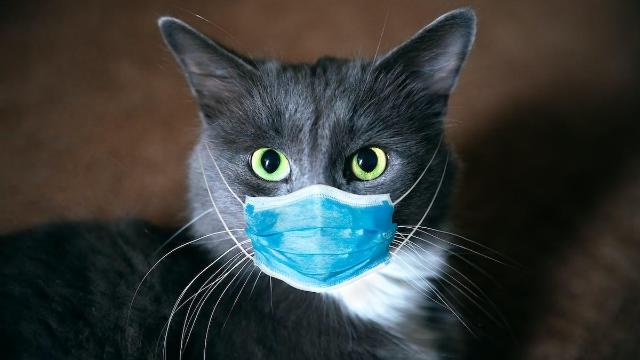cat: (15, 18, 481, 356)
